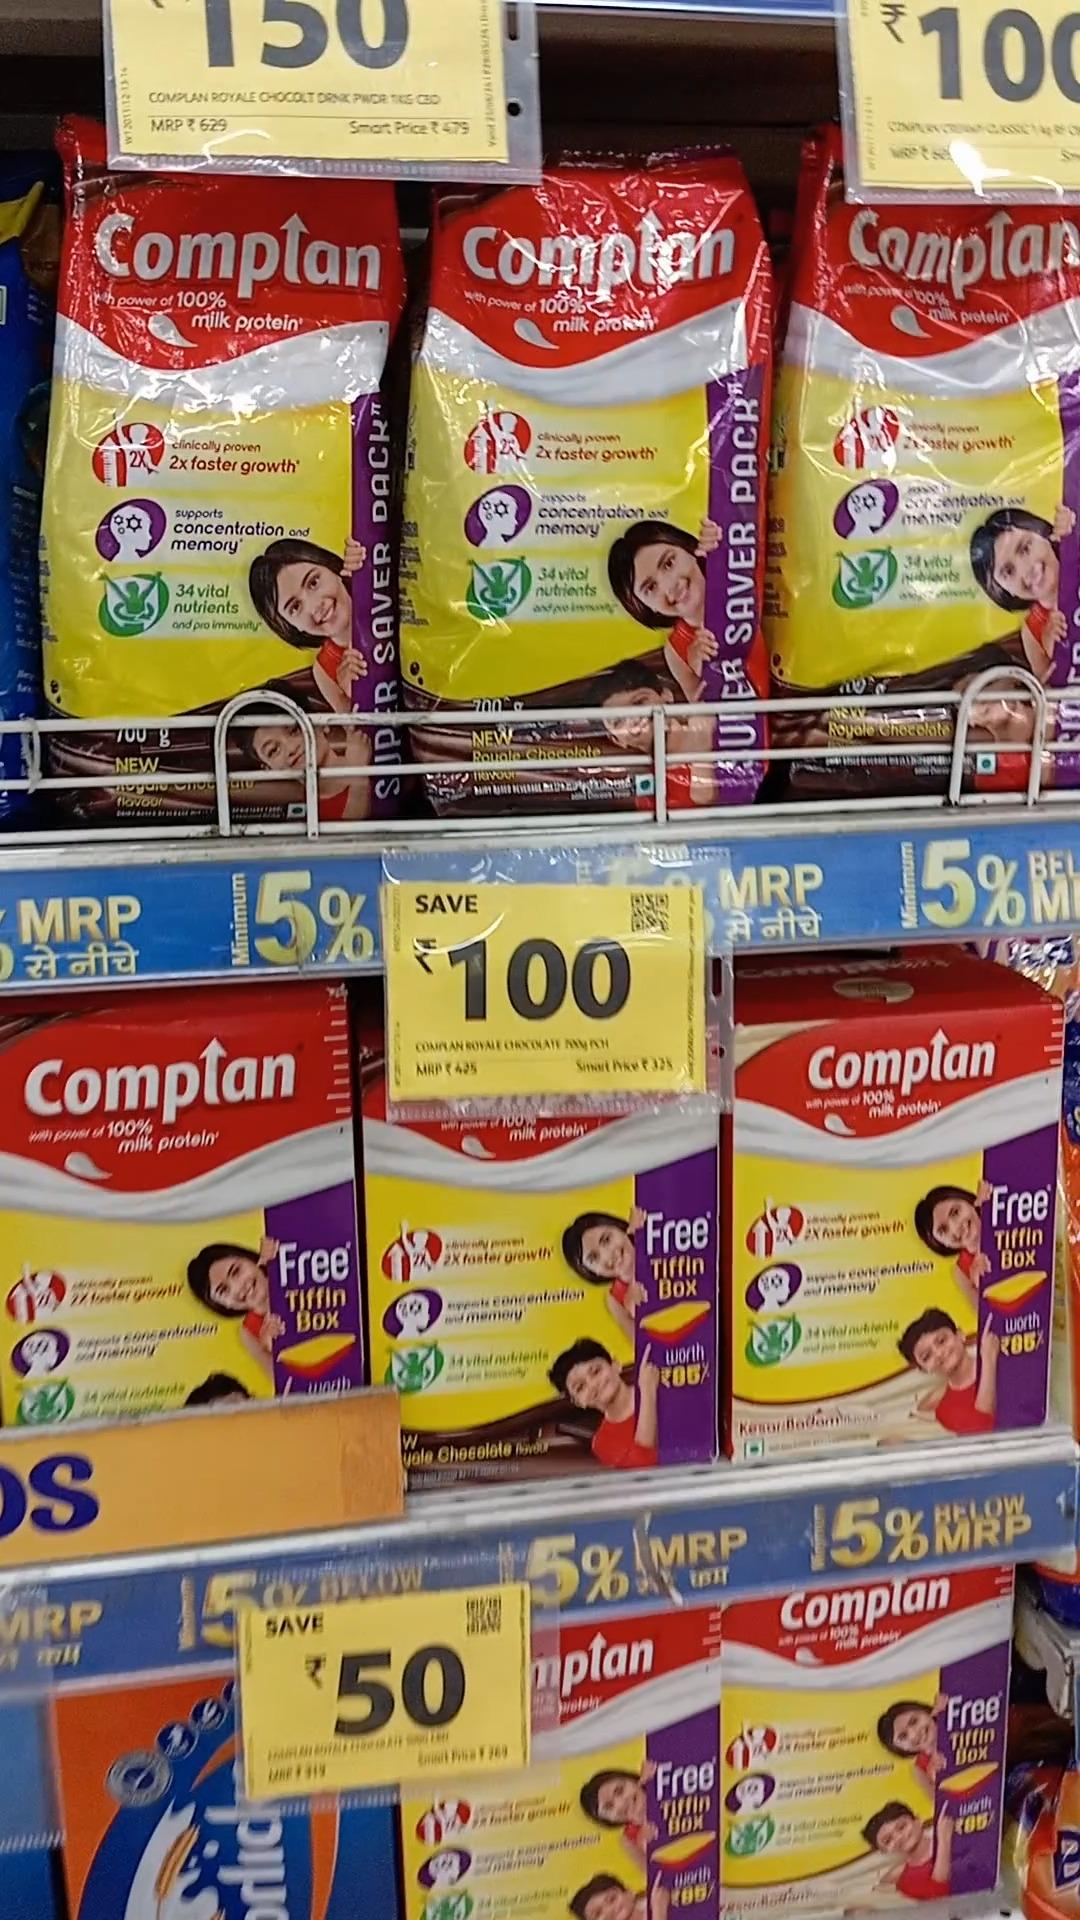COMPLAN_CHOCOLATE_500_GMS_PACK: (0, 1019, 348, 1445), (386, 1089, 713, 1514)
COMPLAN_KESAR_BADAM_500_GMS_PACK: (737, 1029, 1044, 1447), (725, 1577, 1005, 1913)
COMPLAN_RC_POUCH_700_GMS_12: (47, 153, 375, 831), (418, 202, 735, 822), (777, 194, 1067, 798)
